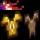breastplate: (0, 10, 24, 40), (24, 10, 40, 40)
eye: (0, 0, 24, 10)
sword: (24, 0, 40, 10)
